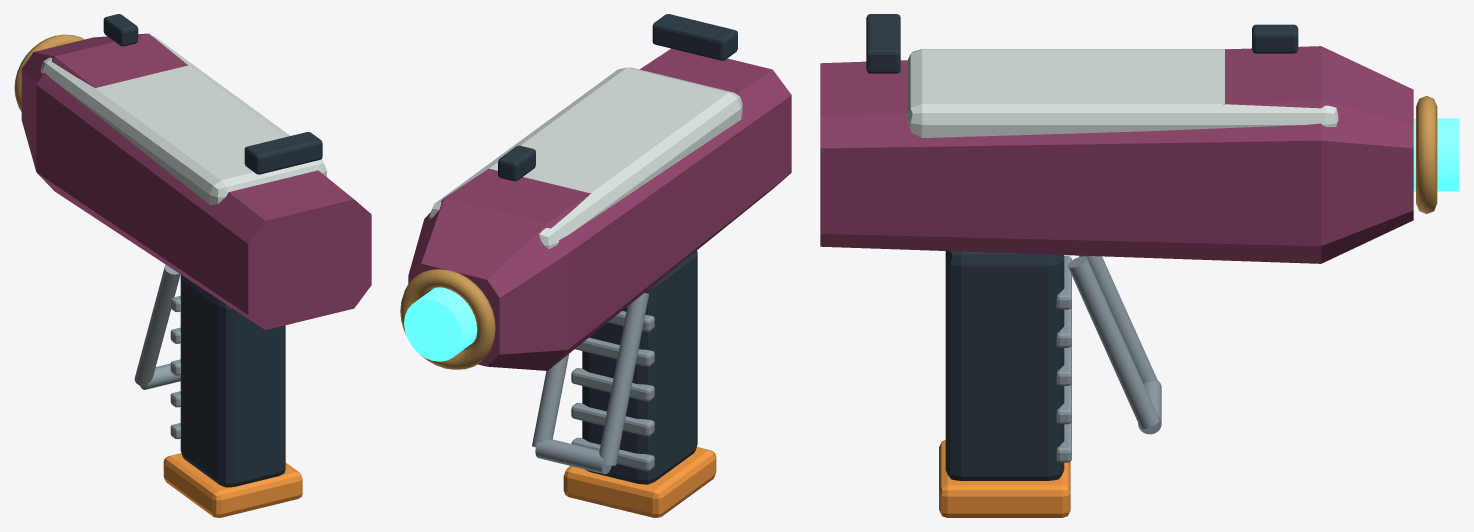
The model's file is txinparta_sidearm.glb.
The picture shows the model from 3 angles, left to right: view 1: azimuth 30°, elevation 25°; view 2: azimuth 150°, elevation 25°; view 3: azimuth 270°, elevation 25°; orthographic projection. The views are drawn at different scales.
Visible parts, largest first — view 1: txinparta_sidearm_mesh, Ion_slide_mesh; view 2: txinparta_sidearm_mesh, Ion_slide_mesh; view 3: txinparta_sidearm_mesh, Ion_slide_mesh.
Boxes of the visible parts, box(x1,y1,x2,y2) form: txinparta_sidearm_mesh: box(21, 14, 371, 517); Ion_slide_mesh: box(14, 34, 326, 204); txinparta_sidearm_mesh: box(408, 14, 791, 517); Ion_slide_mesh: box(400, 67, 742, 369); txinparta_sidearm_mesh: box(820, 14, 1413, 517); Ion_slide_mesh: box(906, 49, 1459, 214).
Bounding box in the file's own units: 0.138 × 0.3905 × 0.485.
